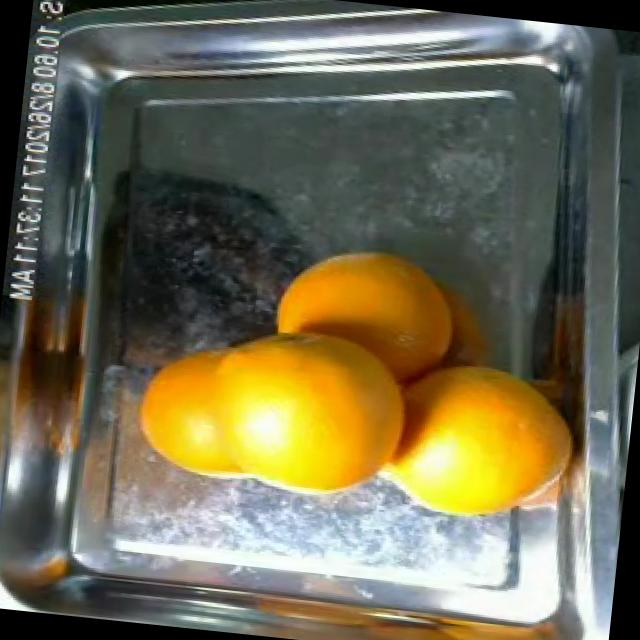Fruit: (248, 226, 468, 408), (596, 28, 640, 67)
